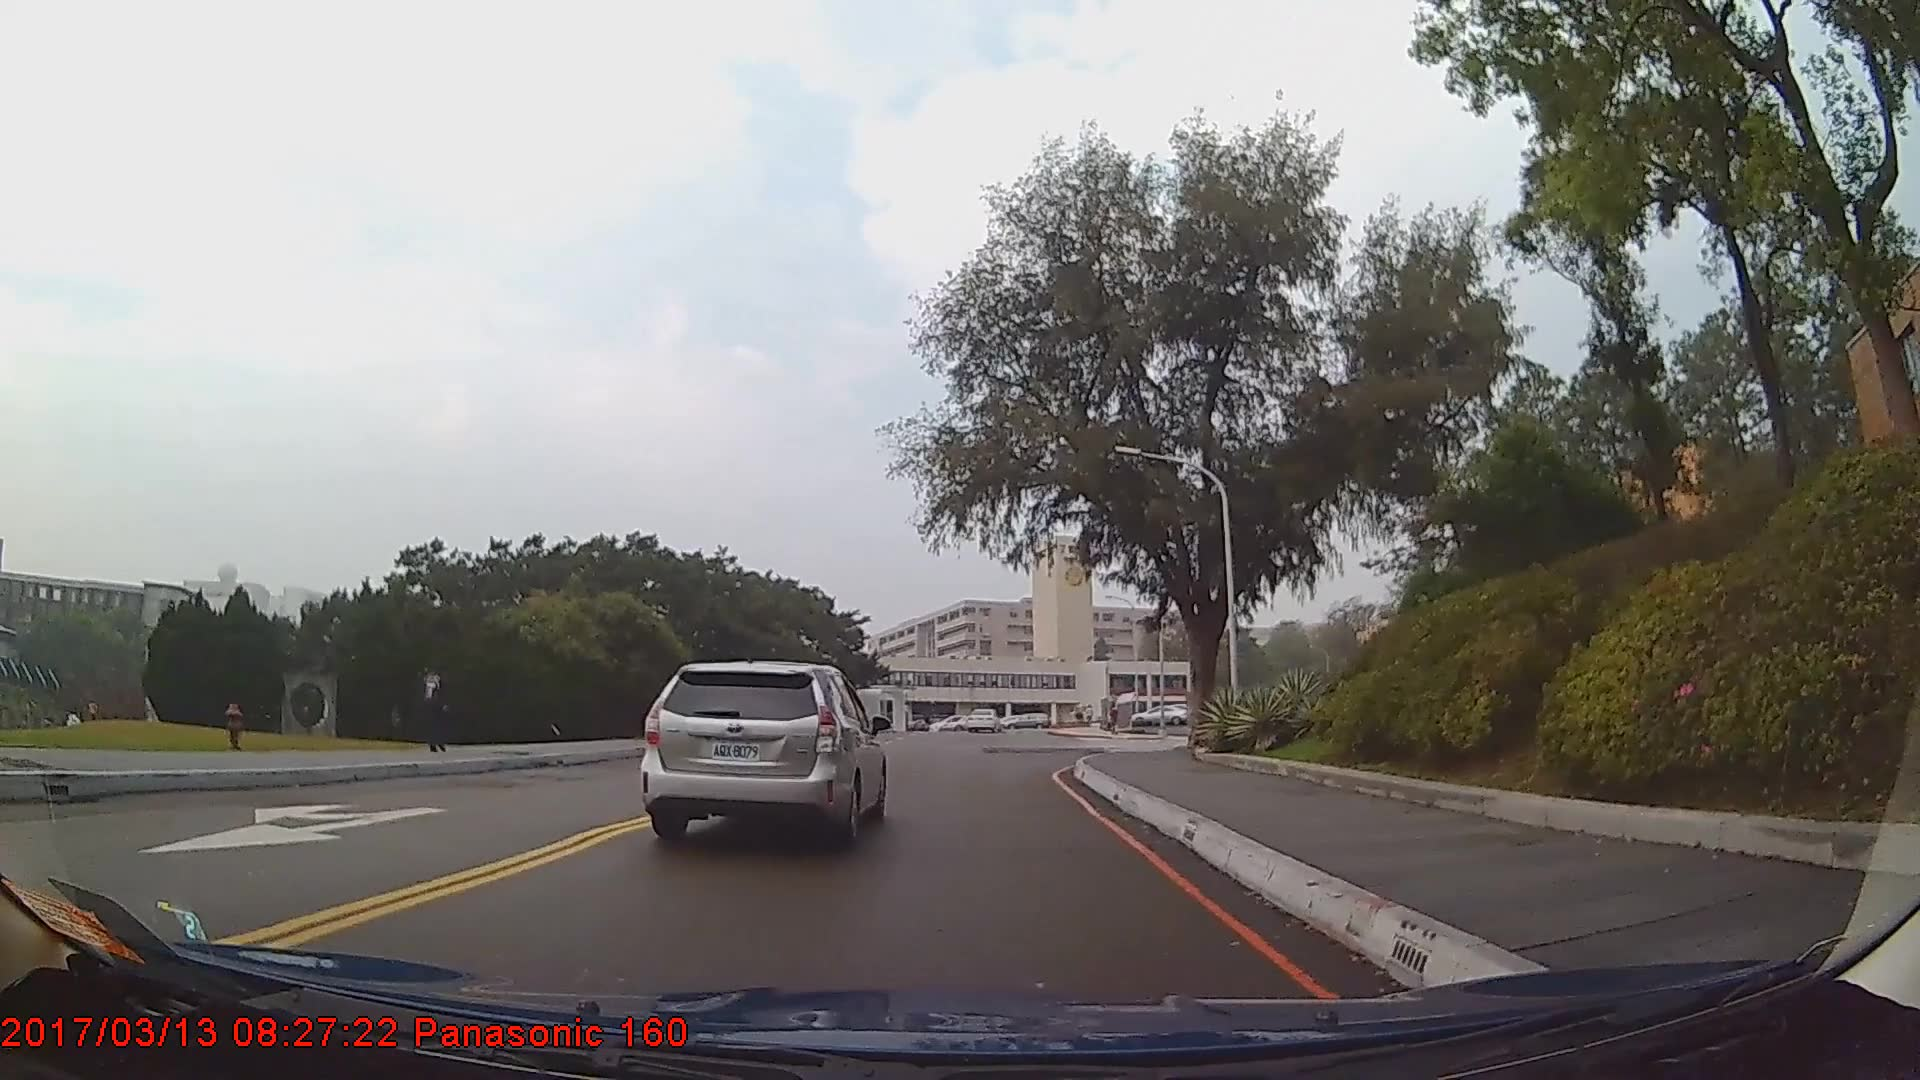pedestrian: (410, 661, 454, 754)
vehicle: (637, 658, 886, 847), (1128, 705, 1188, 727), (962, 704, 1001, 731)
